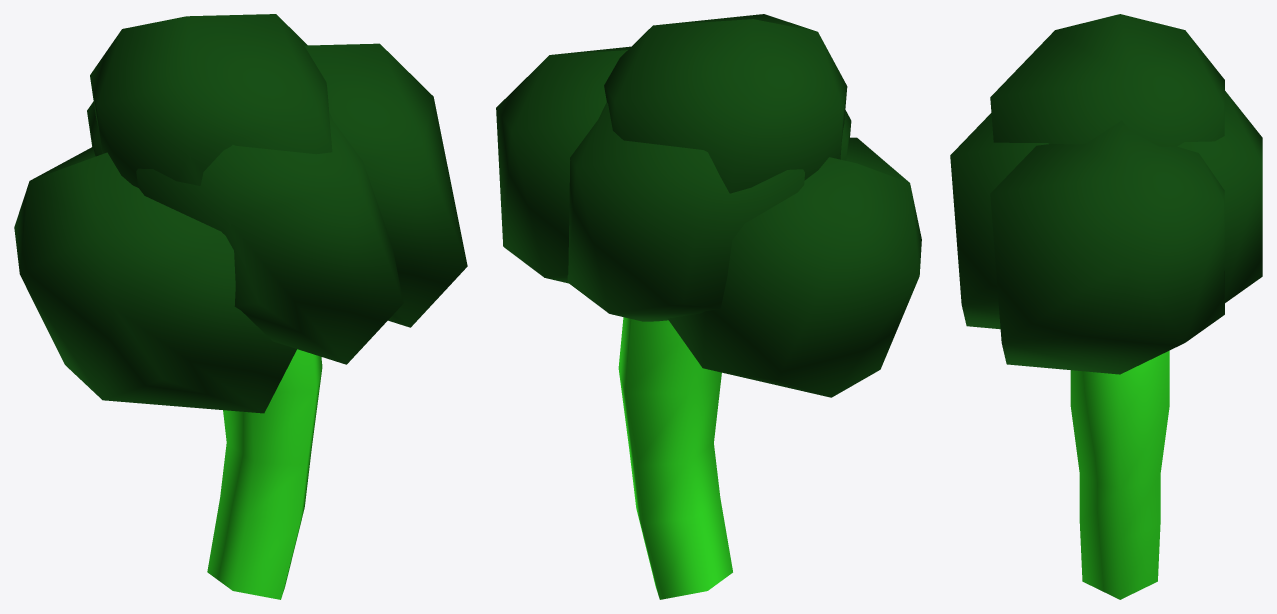
File: Brokkoli_3D.FBX
3 renders of one model, left to right at view 1: azimuth 30°, elevation 25°; view 2: azimuth 150°, elevation 25°; view 3: azimuth 270°, elevation 25°, orthographic. The views are drawn at different scales.
Parts seen in each view (by area): view 1: Cylinder001; view 2: Cylinder001; view 3: Cylinder001.
Part boxes in pixels (x1,y1,x2,y2): Cylinder001: (14,14,467,599); Cylinder001: (496,14,921,599); Cylinder001: (950,14,1262,599).
Bounding box in the file's own units: 35.76 × 48.4 × 25.29.
